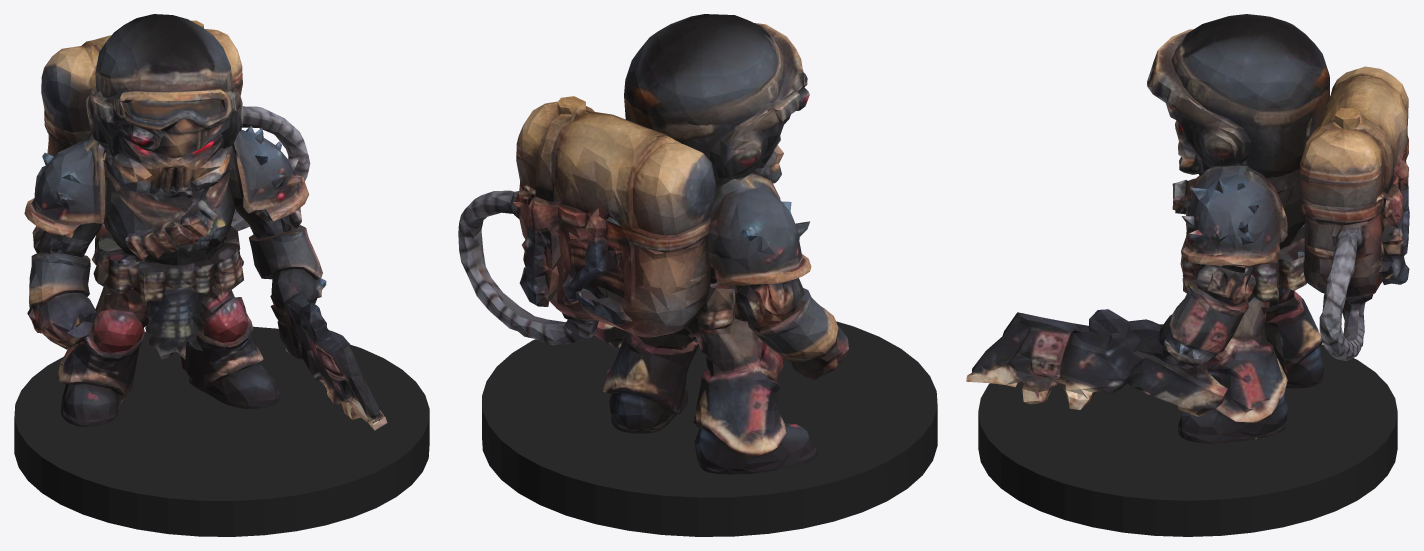
The model's file is lg-gunner.glb.
3 renders of one model, left to right at view 1: azimuth 30°, elevation 25°; view 2: azimuth 150°, elevation 25°; view 3: azimuth 270°, elevation 25°, orthographic. The views are drawn at different scales.
Visible parts, largest first — view 1: figure, base; view 2: figure, base; view 3: figure, base.
Boxes of the visible parts, x1=… form: figure: x1=24, y1=14, x2=387, y2=430; base: x1=14, y1=326, x2=429, y2=536; figure: x1=458, y1=14, x2=848, y2=474; base: x1=482, y1=321, x2=937, y2=536; figure: x1=966, y1=14, x2=1409, y2=443; base: x1=978, y1=324, x2=1397, y2=536.
Size of the model in its own units: 1.26 by 1.37 by 1.33.
Materials: 2 (1 with a texture image).
